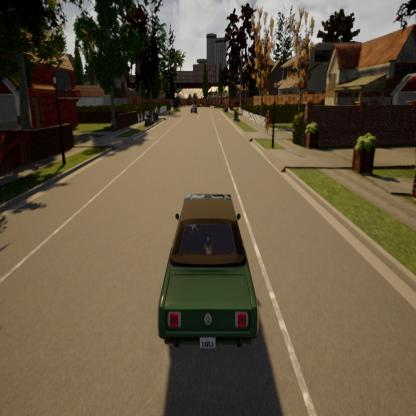Cars: (157, 191, 258, 362), (190, 101, 197, 114)
Pedestrian: (266, 108, 270, 136)
